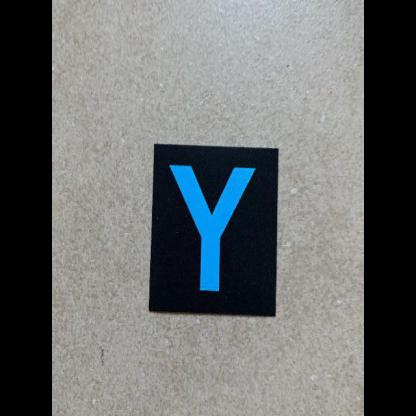y: (149, 143, 281, 319)
